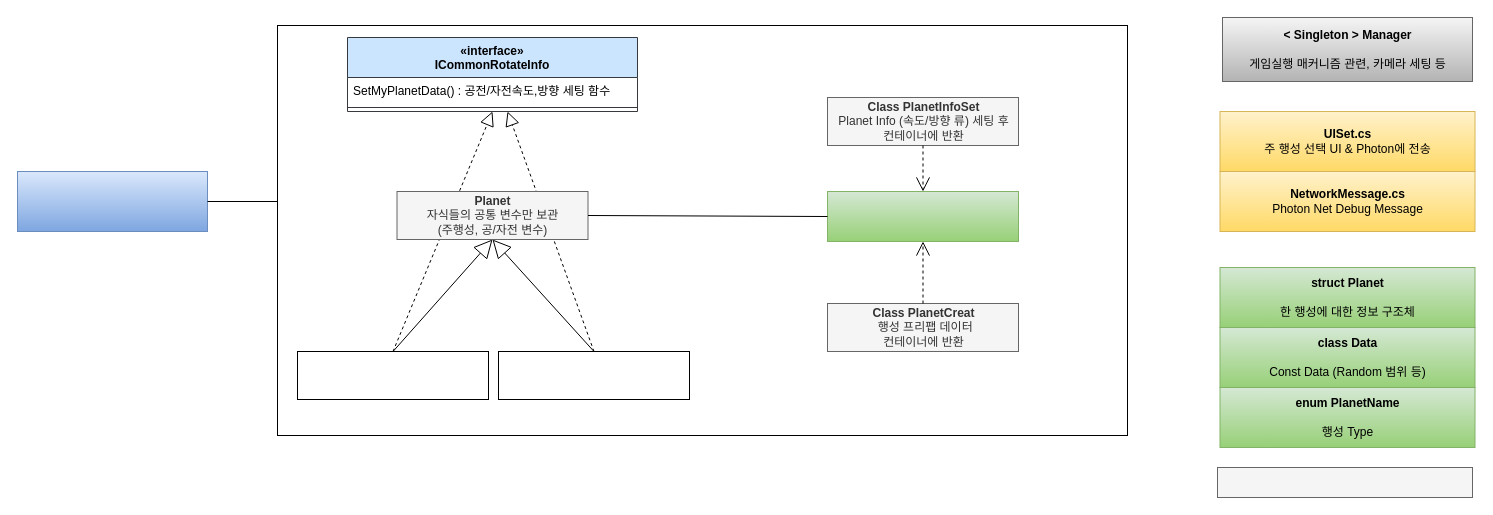
This 1493x515 diagram has some shape labels left out. Each missing label, with the centre of its shape:
"Class OrbitalRotation 공전 정보 세팅" goes at (x=594, y=375).
"Class OwnRotation 자전 정보 세팅" goes at (x=392, y=375).
"Class PlanetContainer 전체 행성의 Data 컨테이너" goes at (x=922, y=216).
"Coroutine" goes at (x=1344, y=482).
"NetworkManager" goes at (x=112, y=201).
